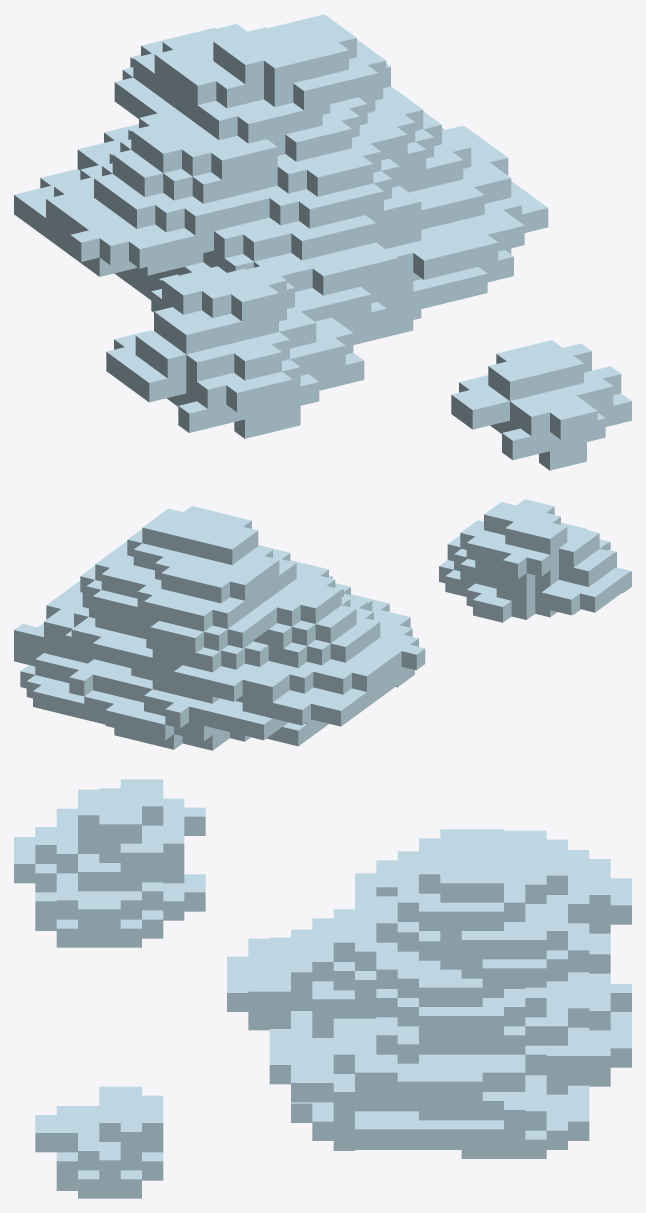
The model's file is Menu_Cloud_01.obj.
3 views of the same model, one above another, from view 1: azimuth 30°, elevation 25°; view 2: azimuth 150°, elevation 25°; view 3: azimuth 270°, elevation 25° (orthographic). The views are drawn at different scales.
Size of the model in its own units: 29 by 15 by 29.
Materials: 1 (1 with a texture image).
